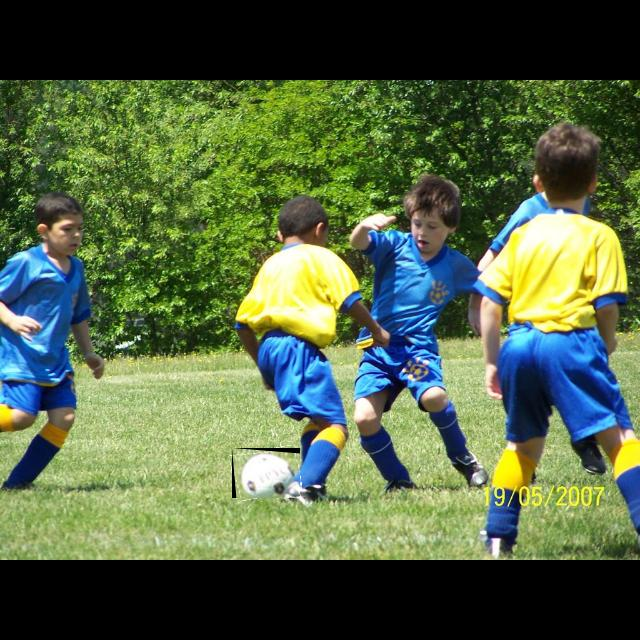Football: (232, 448, 300, 498)
